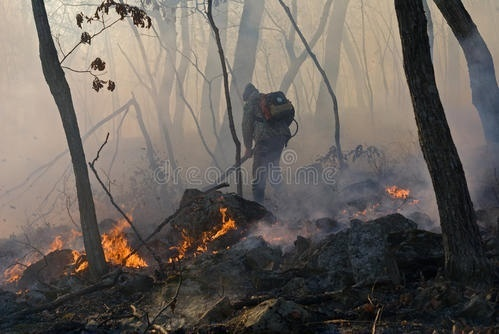fire: (4, 202, 152, 291), (167, 203, 238, 263), (344, 182, 417, 220)
